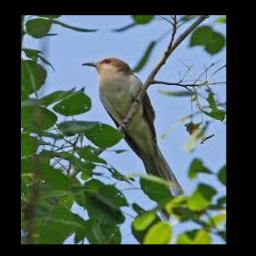Cuckoo: (81, 57, 184, 221)
